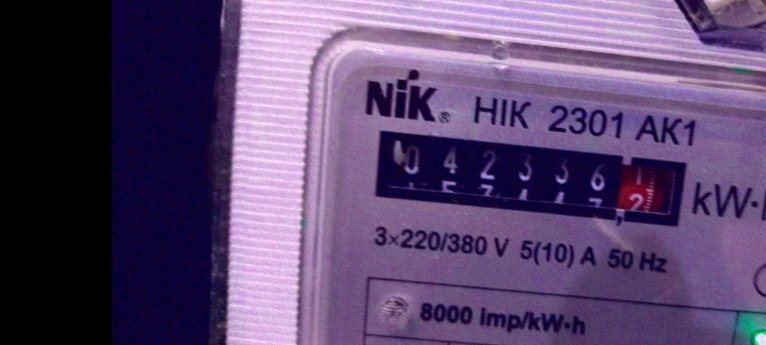0: (401, 141, 423, 176)
1: (631, 160, 646, 187)
2: (477, 145, 501, 181), (625, 190, 644, 213)
3: (514, 148, 535, 182), (553, 152, 573, 186)
4: (441, 141, 461, 175)
6: (587, 158, 611, 194)
screen: (359, 114, 702, 240)
